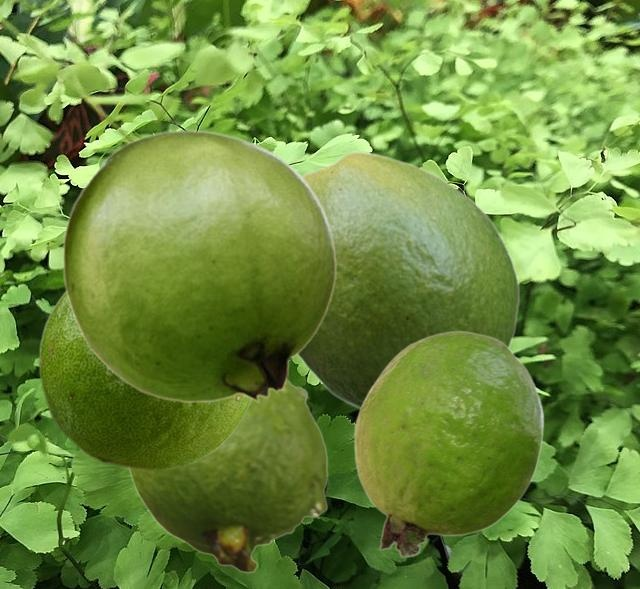guava: (61, 129, 336, 403), (297, 150, 522, 409), (353, 330, 543, 557), (128, 379, 327, 572), (38, 292, 252, 470)
